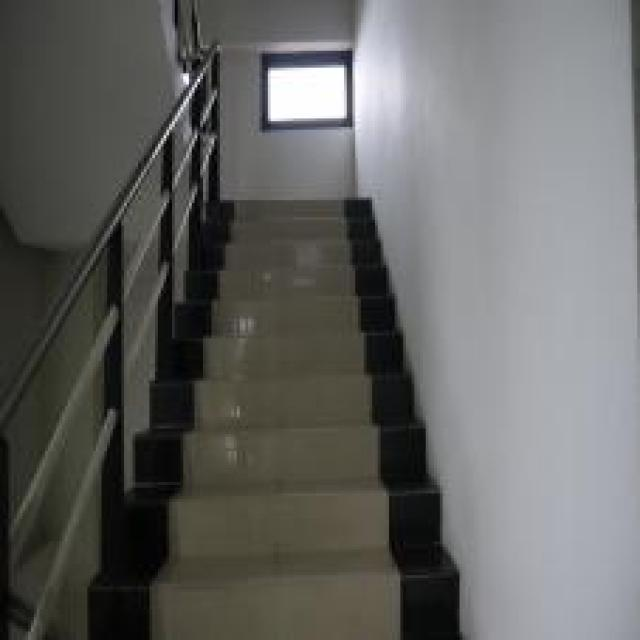upstair: (215, 196, 413, 638)
